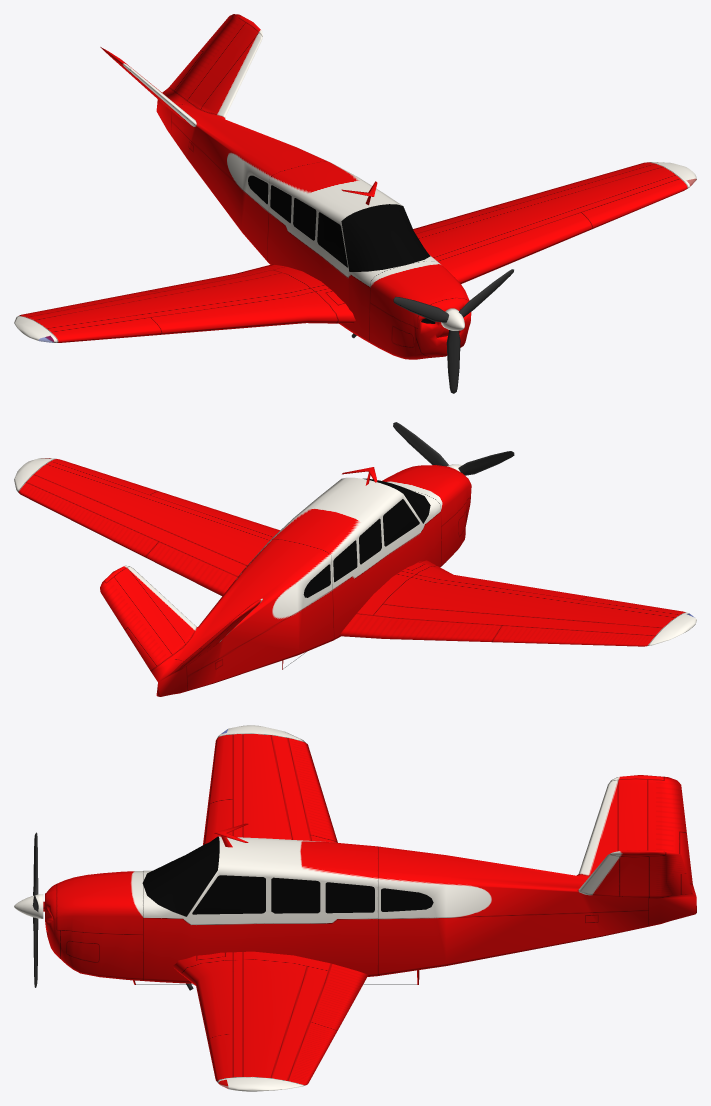
File: airplane.obj
The picture shows the model from 3 angles, top to bottom: view 1: azimuth 30°, elevation 25°; view 2: azimuth 150°, elevation 25°; view 3: azimuth 270°, elevation 25°; orthographic projection. The views are drawn at different scales.
Visible parts, largest first — view 1: aircraft, window, propeller; view 2: aircraft, window, propeller; view 3: aircraft, window, propeller.
Boxes of the visible parts, bbox=[...] form: aircraft: bbox=[14, 14, 696, 359]; window: bbox=[248, 175, 430, 271]; propeller: bbox=[393, 269, 513, 393]; aircraft: bbox=[14, 458, 696, 696]; window: bbox=[303, 478, 430, 597]; propeller: bbox=[393, 422, 514, 475]; aircraft: bbox=[43, 725, 696, 1091]; window: bbox=[142, 836, 433, 916]; propeller: bbox=[14, 832, 43, 987].
Size of the model in its own units: 11.72 by 2.63 by 9.29.
Materials: 5 (1 with a texture image).
